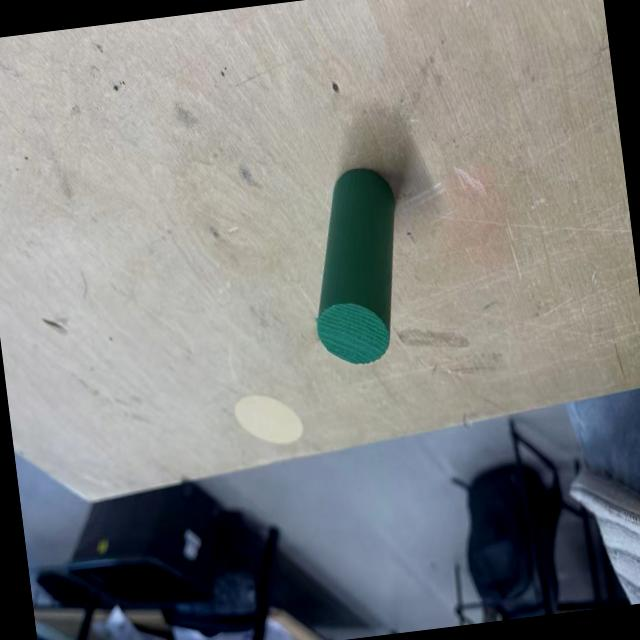green_cylinder: (297, 162, 414, 370)
